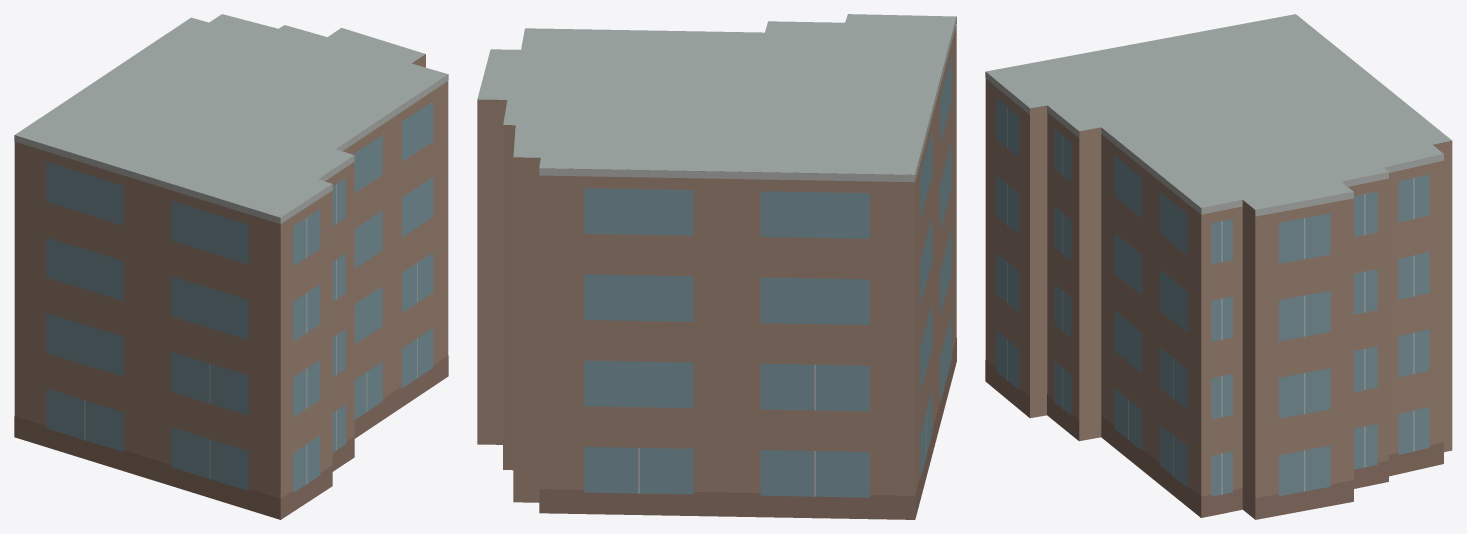
The model's file is survey-upis-32695657.glb.
3 renders of one model, left to right at view 1: azimuth 30°, elevation 25°; view 2: azimuth 150°, elevation 25°; view 3: azimuth 270°, elevation 25°, orthographic. The views are drawn at different scales.
Visible parts, largest first — view 1: survey-upis-32695657.tmp; view 2: survey-upis-32695657.tmp; view 3: survey-upis-32695657.tmp.
Part boxes in pixels (<box>): survey-upis-32695657.tmp: <box>14,14,448,519</box>; survey-upis-32695657.tmp: <box>477,14,956,519</box>; survey-upis-32695657.tmp: <box>985,14,1452,519</box>.
Bounding box in the file's own units: 15.47 × 11.4 × 15.57.
